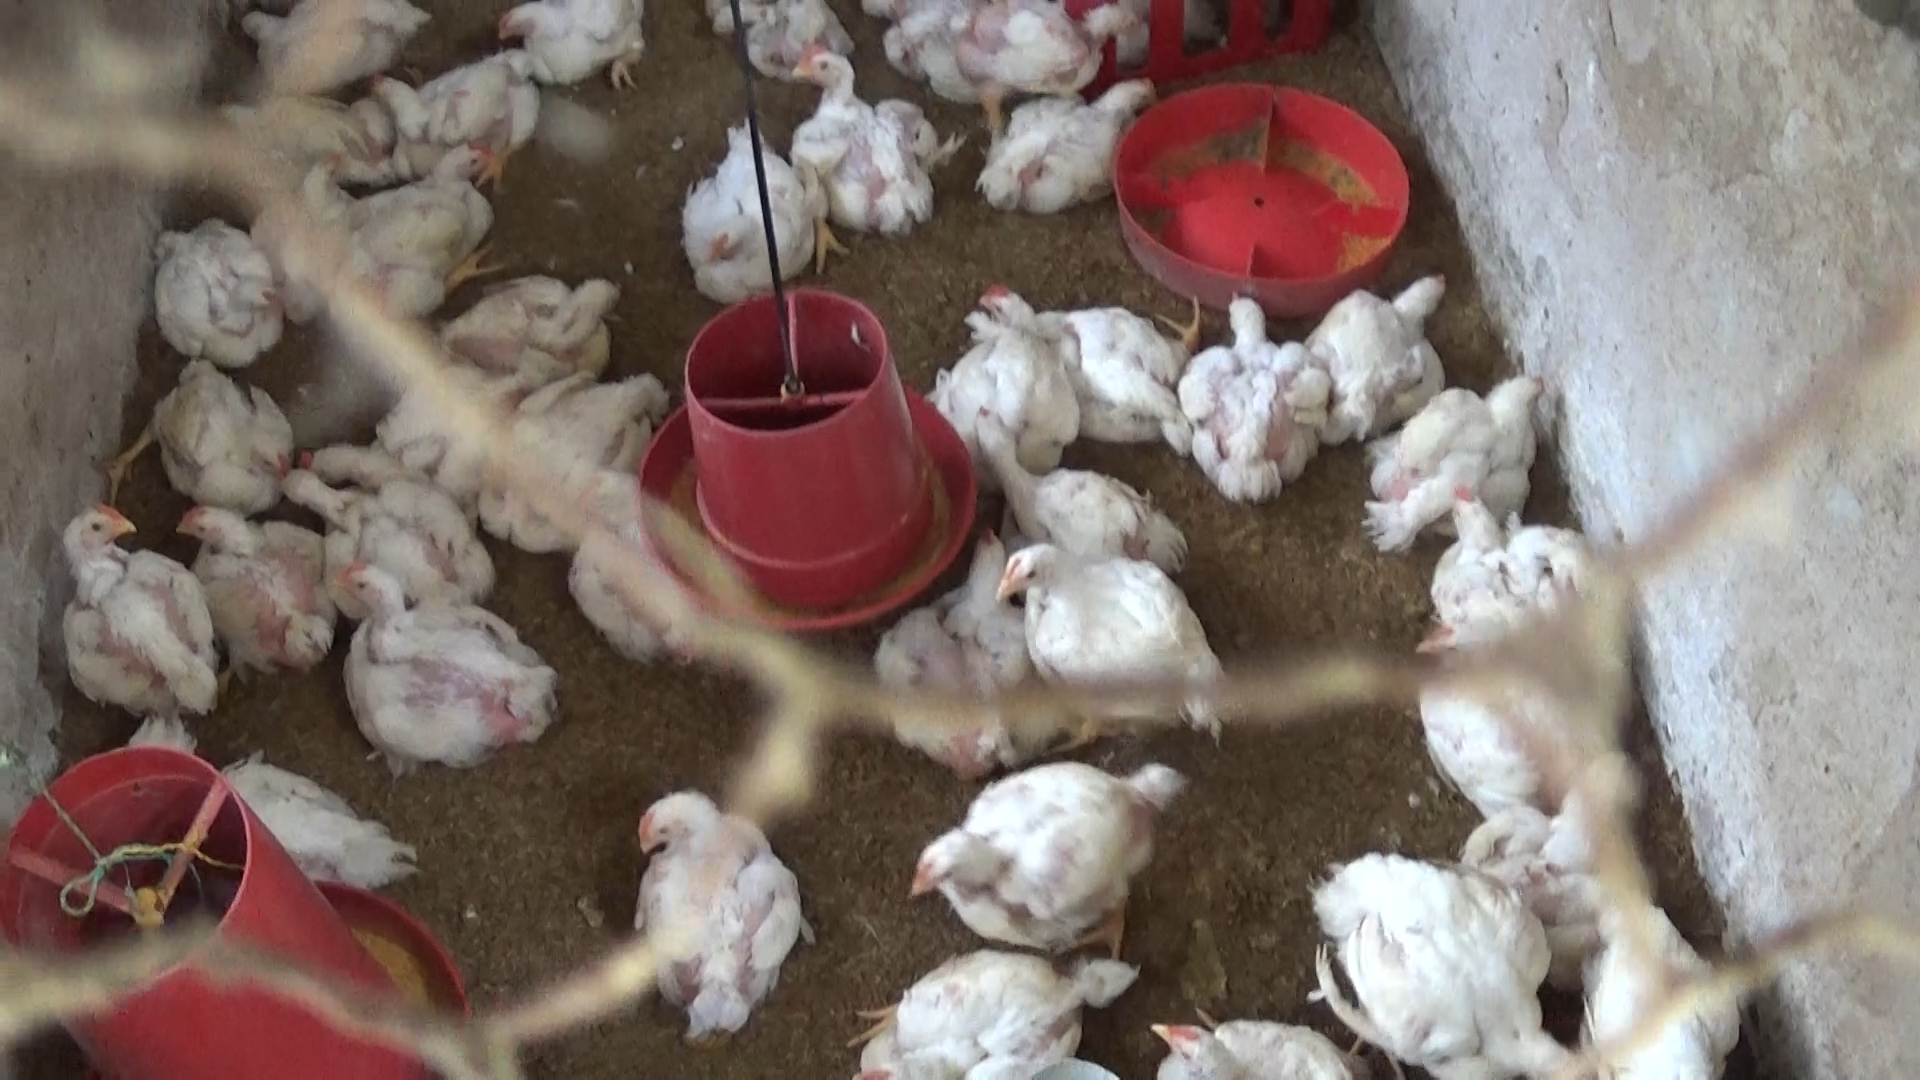Pollos: (1309, 847, 1594, 1080), (113, 687, 425, 893), (316, 549, 560, 766), (616, 785, 816, 1027), (1004, 529, 1234, 738), (893, 760, 1205, 911), (222, 436, 485, 608), (1414, 477, 1640, 669), (967, 396, 1197, 574), (50, 498, 225, 731), (837, 948, 1146, 1073), (872, 547, 1046, 766), (1360, 363, 1556, 542), (167, 504, 363, 671), (789, 40, 945, 243), (1178, 289, 1323, 495), (978, 69, 1160, 218), (945, 272, 1087, 456), (886, 0, 1120, 105), (676, 121, 802, 318), (1307, 266, 1461, 425), (123, 342, 270, 504), (444, 262, 644, 382), (145, 196, 286, 348), (372, 37, 553, 153), (365, 121, 496, 276), (240, 0, 429, 96), (1110, 1002, 1335, 1080), (495, 0, 680, 80)
